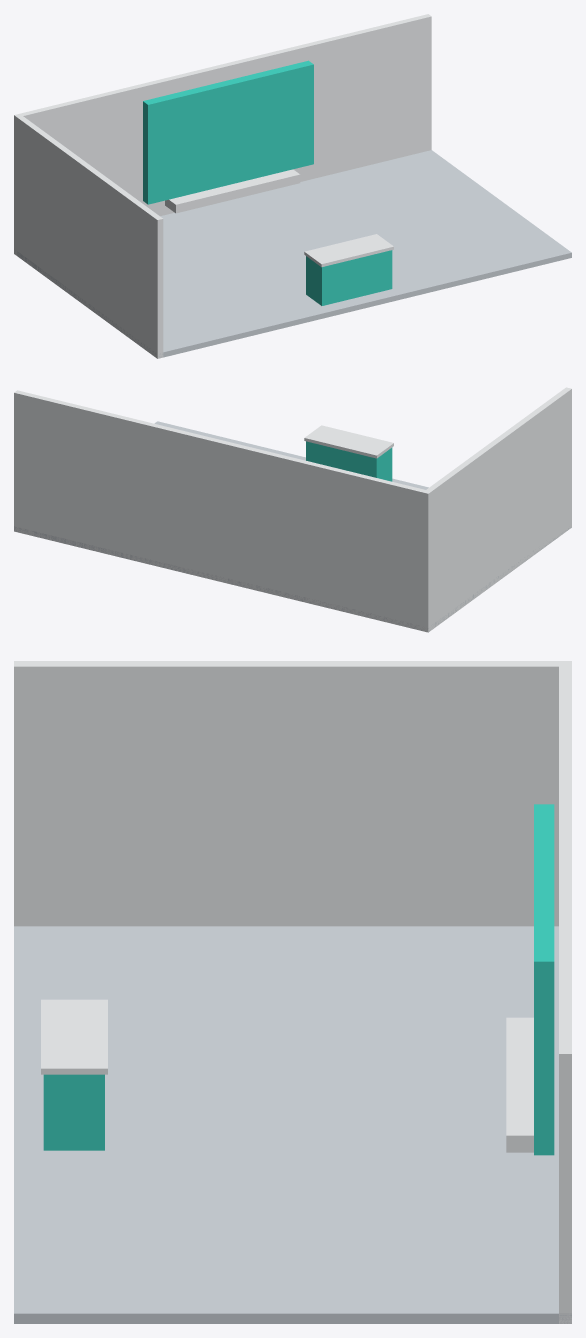
The picture shows the model from 3 angles, top to bottom: view 1: azimuth 30°, elevation 25°; view 2: azimuth 150°, elevation 25°; view 3: azimuth 270°, elevation 25°; orthographic projection. The views are drawn at different scales.
Parts seen in each view (by area): view 1: Exhibition Booth Concept; view 2: Exhibition Booth Concept; view 3: Exhibition Booth Concept.
Part boxes in pixels (left/top/right/bottom): Exhibition Booth Concept: left=14, top=14, right=571, bottom=358; Exhibition Booth Concept: left=14, top=387, right=571, bottom=632; Exhibition Booth Concept: left=14, top=661, right=571, bottom=1323.
Bounding box in the file's own units: 10 × 3.2 × 6.
